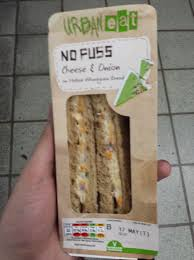sandwich: (34, 2, 170, 260)
